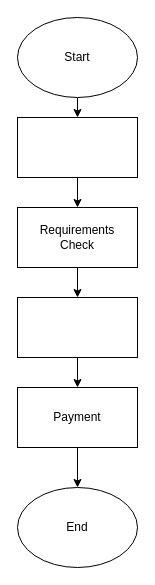
This 155x585 diagram has some shape labels left out. The shapes that lost their labels are listed below. From the top down, each one's centre as x and y in pixels, then its label:
At [77,147]: "Screening".
At [77,327]: "Records Check".
